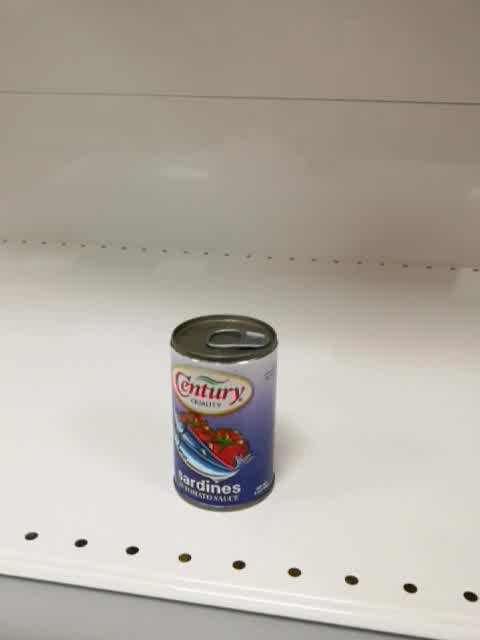sardine: (168, 311, 281, 513)
